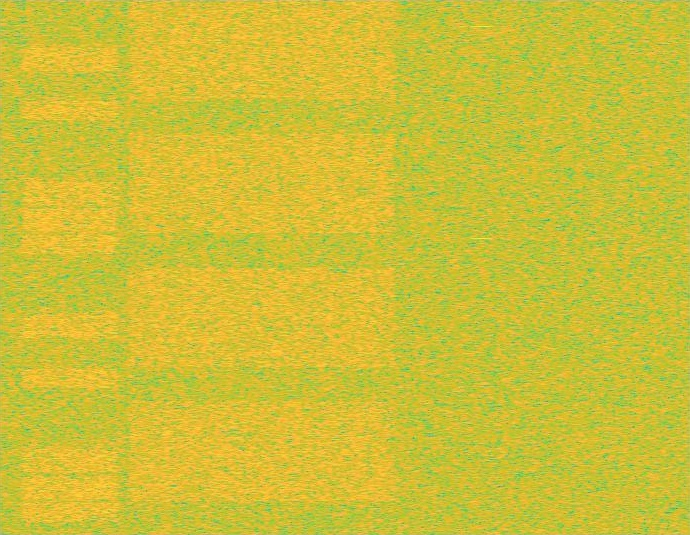5G: (124, 0, 400, 534)
LTE: (19, 0, 122, 534)
Radar: (476, 0, 489, 534)
